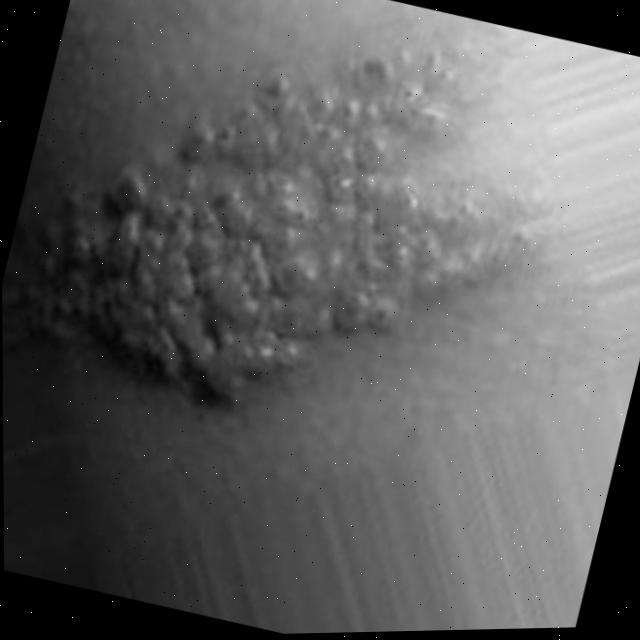Shingles: (33, 0, 551, 462)
